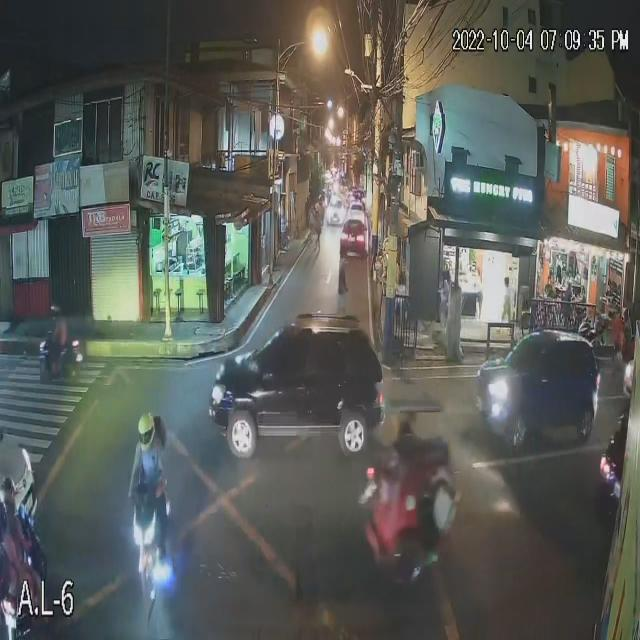helmet: (137, 412, 156, 447), (47, 305, 63, 320)
motorcycle: (130, 498, 178, 600), (37, 336, 85, 384)
rider: (129, 442, 170, 494), (43, 322, 70, 368)
